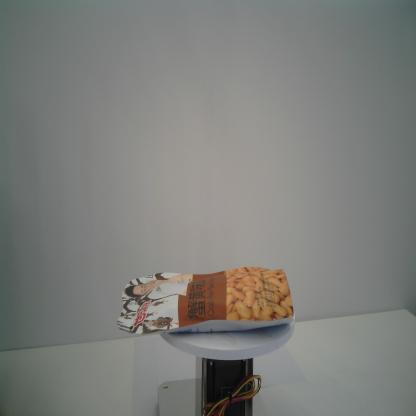Dried Fruit: (116, 265, 295, 335)
